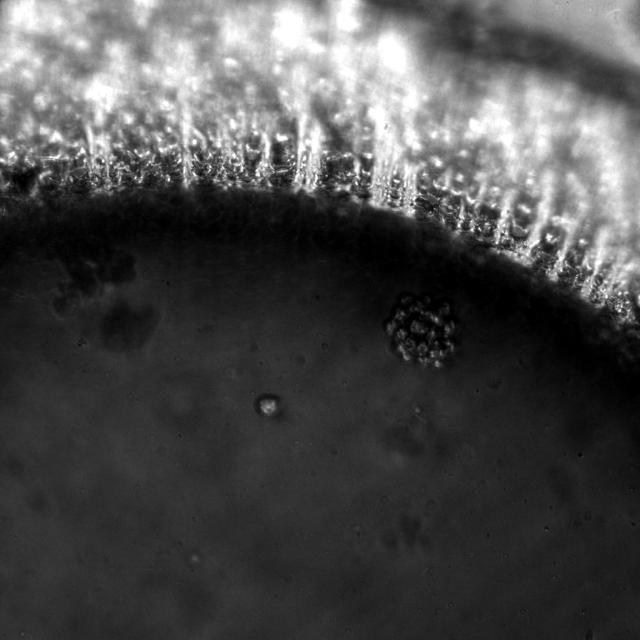organoid: (52, 237, 136, 317), (384, 295, 456, 367), (101, 301, 158, 351), (256, 394, 281, 418)
